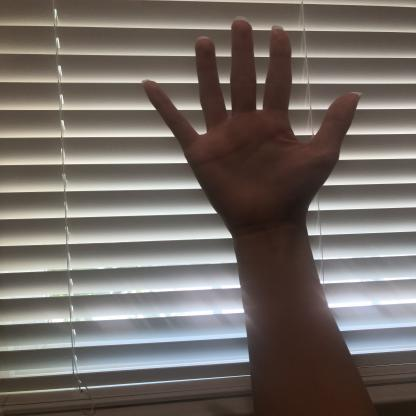palm: (136, 13, 366, 233)
